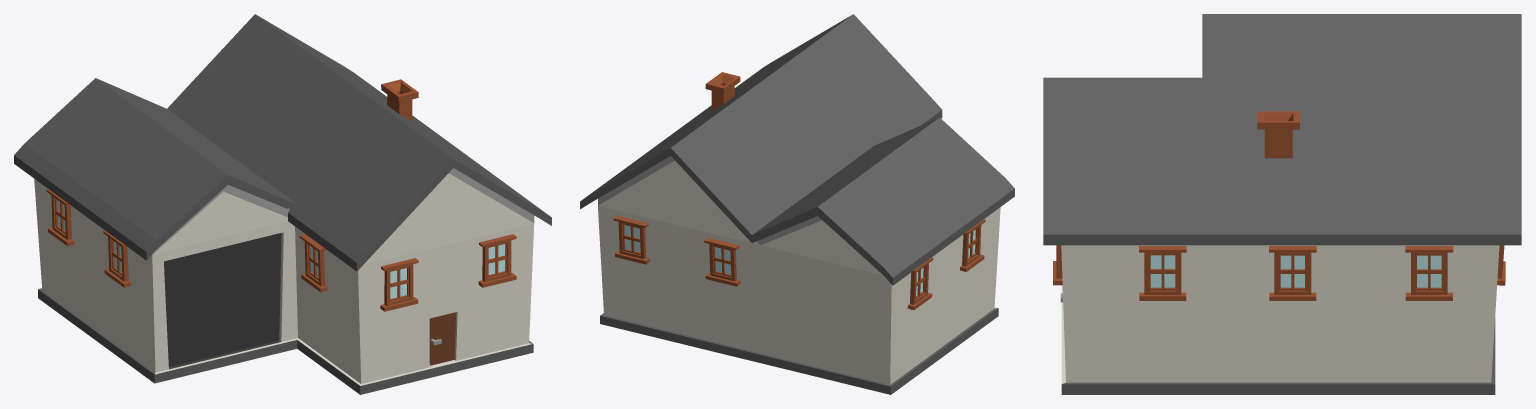
Rendered from house5.glb.
3 views of the same model, side by side, from view 1: azimuth 30°, elevation 25°; view 2: azimuth 150°, elevation 25°; view 3: azimuth 270°, elevation 25° (orthographic). The views are drawn at different scales.
Parts seen in each view (by area): view 1: House5; view 2: House5; view 3: House5.
Boxes of the visible parts, <box> form: House5: <box>14,14,551,394</box>; House5: <box>580,14,1014,394</box>; House5: <box>1043,14,1521,394</box>.
Bounding box in the file's own units: 2.16 × 1.34 × 2.19.
1 material, 1 textured.
